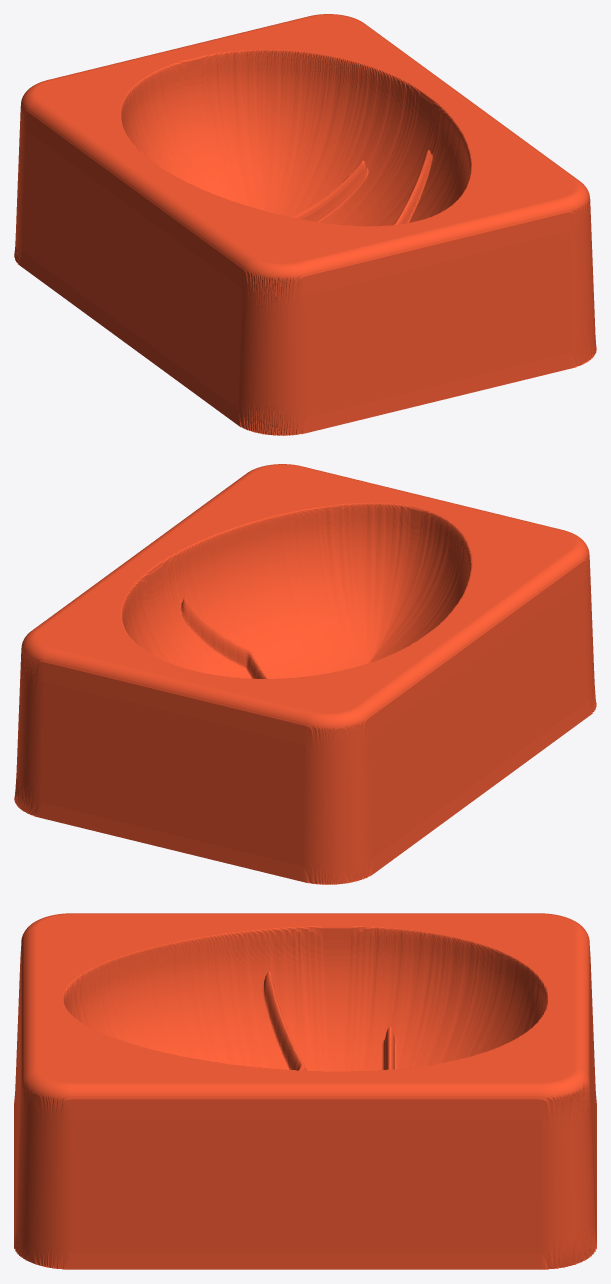
Rendered from mold.glb.
The picture shows the model from 3 angles, top to bottom: view 1: azimuth 30°, elevation 25°; view 2: azimuth 150°, elevation 25°; view 3: azimuth 270°, elevation 25°; orthographic projection. The views are drawn at different scales.
Visible parts, largest first — view 1: geometry_0; view 2: geometry_0; view 3: geometry_0.
Boxes of the visible parts, <box> form: geometry_0: <box>14,14,596,435</box>; geometry_0: <box>14,464,596,884</box>; geometry_0: <box>14,913,596,1269</box>.
Size of the model in its own units: 0.0702 by 0.031 by 0.0924.
